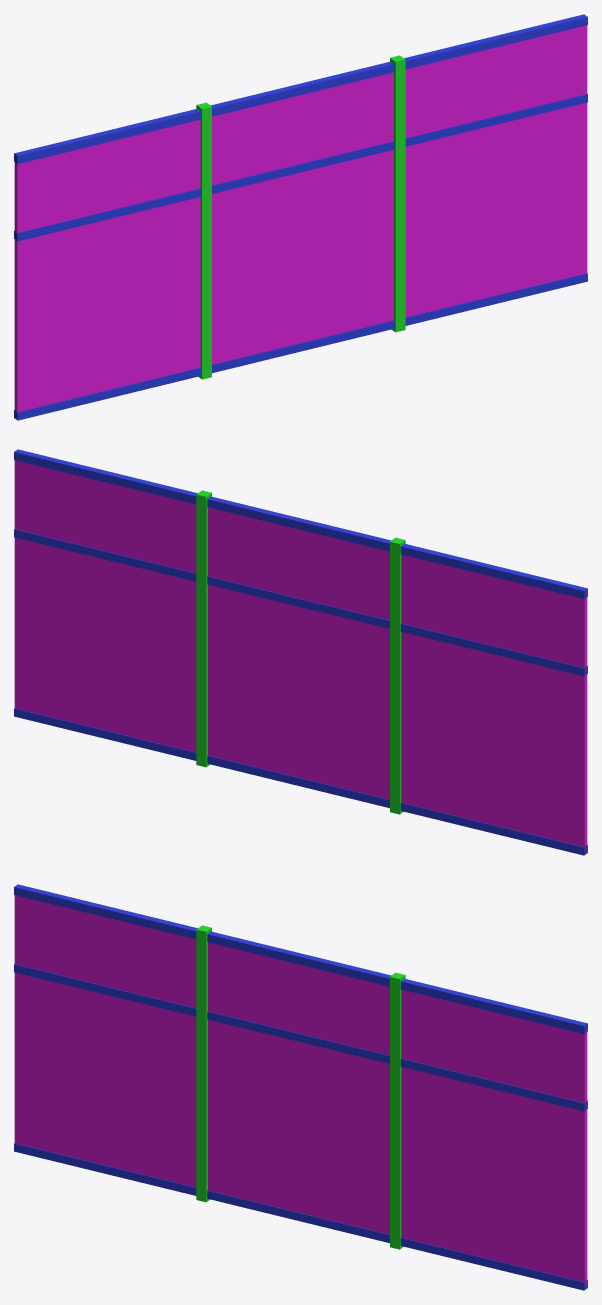
File: Fence_12_C.fbx
The picture shows the model from 3 angles, top to bottom: view 1: azimuth 30°, elevation 25°; view 2: azimuth 150°, elevation 25°; view 3: azimuth 330°, elevation 25°; orthographic projection.
Parts seen in each view (by area): view 1: Fence_12_C; view 2: Fence_12_C; view 3: Fence_12_C.
Part boxes in pixels (left/top/right/bottom): Fence_12_C: left=14, top=14, right=587, bottom=420; Fence_12_C: left=14, top=449, right=587, bottom=855; Fence_12_C: left=14, top=884, right=587, bottom=1290.
Size of the model in its own units: 229 by 104 by 3.93.
